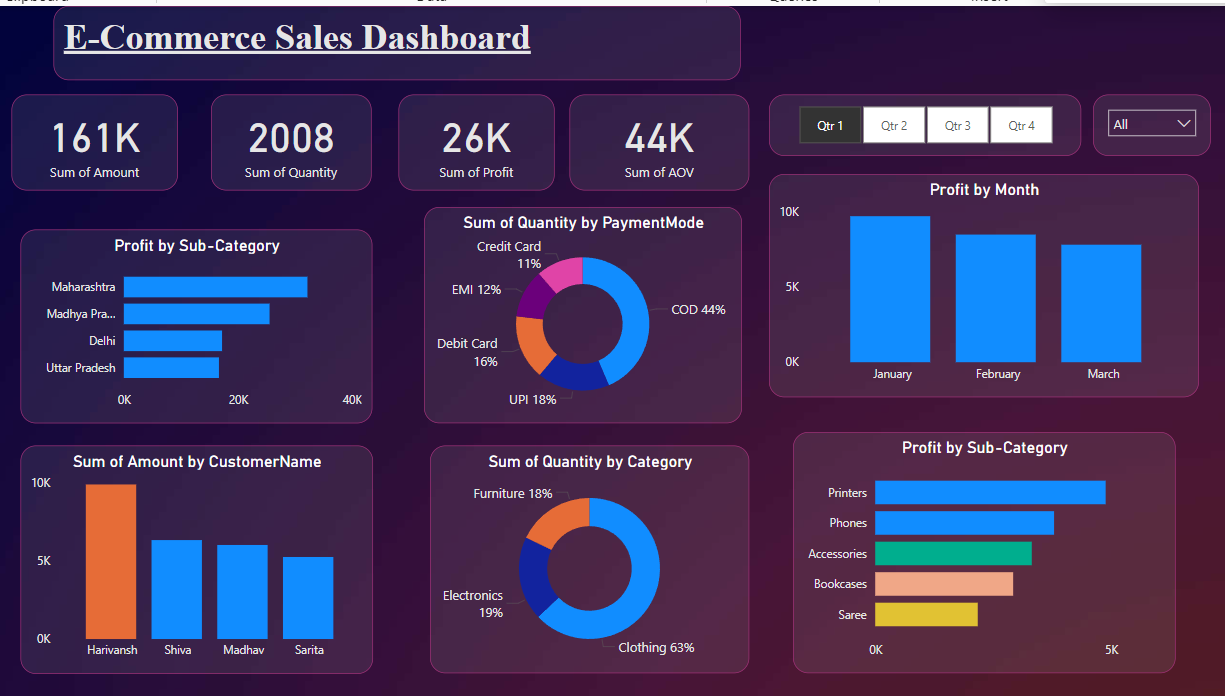

What the dashboard file says about the page in this screenshot:
{"tool":"powerbi","page":{"name":"Page 1","canvas":[1280,720],"ordinal":0},"visuals":[{"type":"textbox","box":[58.6,0,716.2,77.5],"z":0},{"type":"columnChart","title":" Profit by Month","fields":{"Y":["Details.Profit"],"Category":["Orders.Order Date.Variation.Date Hierarchy.Month"]},"box":[803.2,175.7,447.9,232.4],"z":1000},{"type":"barChart","title":" Profit by Sub-Category","fields":{"Category":["Details.Sub-Category"],"Y":["Details.Profit"]},"box":[827.7,444.1,398.7,251.3],"z":2000},{"type":"donutChart","fields":{"Category":["Details.Category"],"Y":["Details.Quantity"]},"box":[450.1,458,332.9,237.6],"z":3000},{"type":"donutChart","fields":{"Category":["Details.PaymentMode","Details.Category"],"Y":["Details.Quantity"]},"box":[443.9,209.4,331.4,225.1],"z":4000},{"type":"card","fields":{"Values":["Details.Amount"]},"box":[14.1,92.2,173.5,100],"z":5000},{"type":"card","fields":{"Values":["Details.Quantity"]},"box":[221.9,92.2,167.2,100],"z":6000},{"type":"card","fields":{"Values":["Details.Profit"]},"box":[417.3,92.2,162.6,100],"z":7000},{"type":"card","fields":{"Values":["Details.AOV"]},"box":[595.5,92.2,187.6,100],"z":8000},{"type":"barChart","title":" Profit by Sub-Category","fields":{"Category":["Orders.State"],"Y":["Details.Amount"]},"box":[22.7,232.4,366.6,202.2],"z":9000},{"type":"columnChart","fields":{"Category":["Orders.CustomerName"],"Y":["Details.Amount"]},"box":[23,458,367,238],"z":10000},{"type":"slicer","fields":{"Values":["Orders.Order Date.Variation.Date Hierarchy.Quarter"]},"box":[803.2,92.6,325,64.3],"z":11000},{"type":"slicer","fields":{"Values":["Orders.State"]},"box":[1141.4,92.6,122.8,64.3],"z":12000}]}

Visuals, with their boxes in screenshot pixels (x1, y1, x2, y2), scaled from the page's 1280x720 canvas onto the 1225x696 screenshot:
textbox: (x1=56, y1=0, x2=742, y2=75)
" Profit by Month" columnChart: (x1=769, y1=170, x2=1197, y2=394)
" Profit by Sub-Category" barChart: (x1=792, y1=429, x2=1174, y2=672)
donutChart - Details.Category x Details.Quantity: (x1=431, y1=443, x2=749, y2=672)
donutChart - Details.PaymentMode x Details.Category: (x1=425, y1=202, x2=742, y2=420)
card - Details.Amount: (x1=13, y1=89, x2=180, y2=186)
card - Details.Quantity: (x1=212, y1=89, x2=372, y2=186)
card - Details.Profit: (x1=399, y1=89, x2=555, y2=186)
card - Details.AOV: (x1=570, y1=89, x2=749, y2=186)
" Profit by Sub-Category" barChart: (x1=22, y1=225, x2=373, y2=420)
columnChart - Orders.CustomerName x Details.Amount: (x1=22, y1=443, x2=373, y2=673)
slicer - Orders.Order Date.Variation.Date Hierarchy.Quarter: (x1=769, y1=90, x2=1080, y2=152)
slicer - Orders.State: (x1=1092, y1=90, x2=1210, y2=152)
